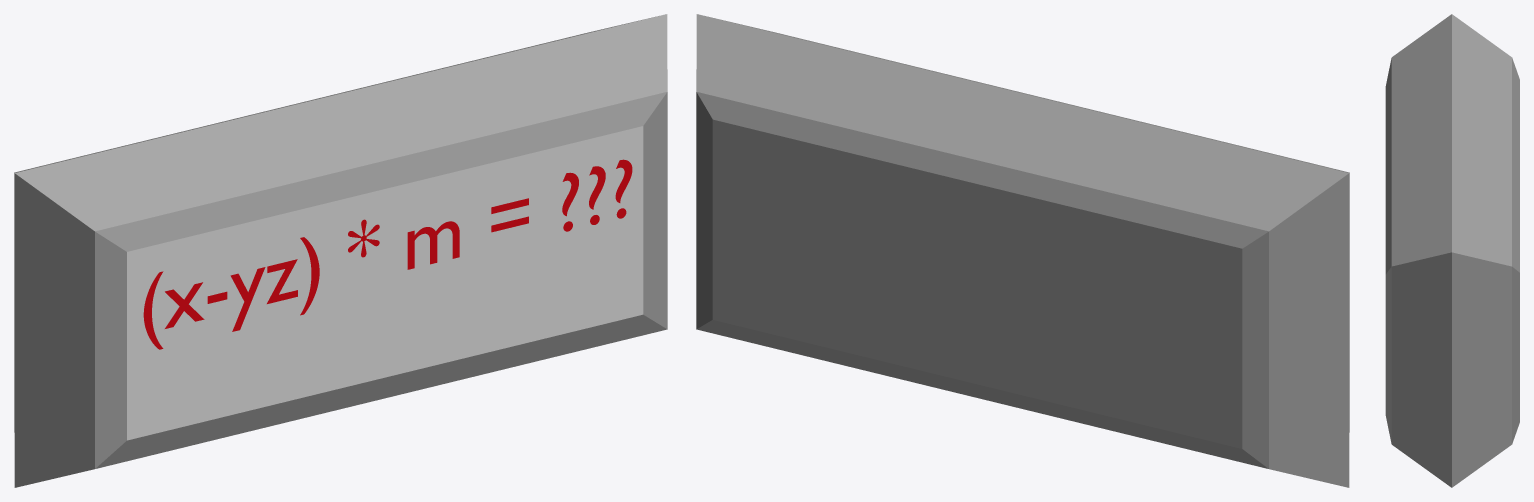
File: Question#1.fbx
3 views of the same model, side by side, from view 1: azimuth 30°, elevation 25°; view 2: azimuth 150°, elevation 25°; view 3: azimuth 270°, elevation 25° (orthographic). The views are drawn at different scales.
Parts seen in each view (by area): view 1: Cube, Text; view 2: Cube; view 3: Cube.
Boxes of the visible parts, x1,y1,x2,y2 form: Cube: [14, 14, 667, 487]; Text: [143, 159, 632, 349]; Cube: [696, 14, 1349, 487]; Cube: [1385, 14, 1519, 487].
Size of the model in its own units: 1735 by 800 by 436.
